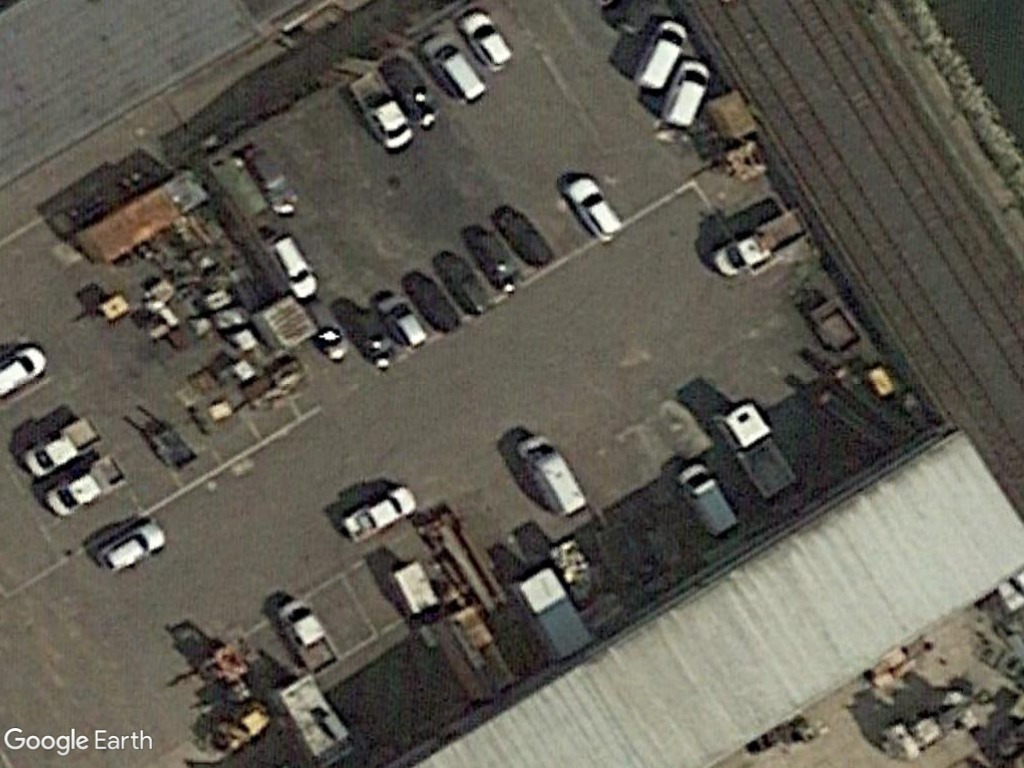car: (338, 467, 424, 550), (90, 514, 178, 580), (558, 167, 626, 246), (455, 4, 526, 78)
van: (512, 430, 589, 522), (668, 454, 742, 538), (632, 10, 694, 102), (657, 48, 715, 144), (419, 29, 488, 108), (266, 230, 324, 304)
